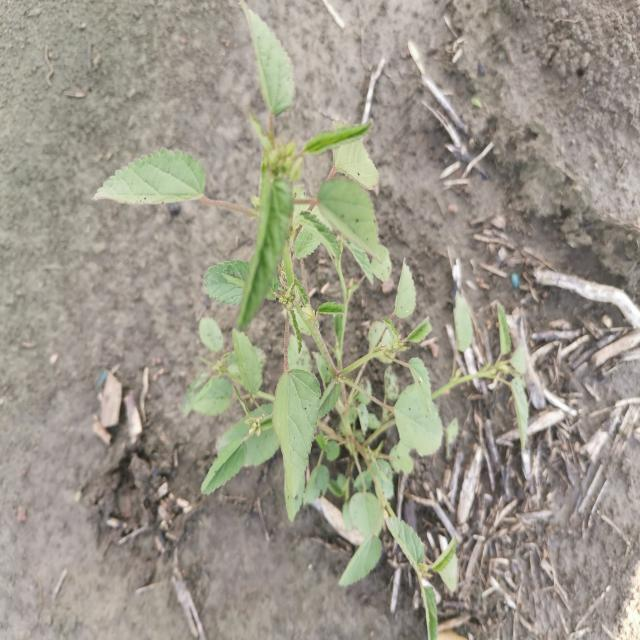PricklySida: (89, 4, 534, 639)
